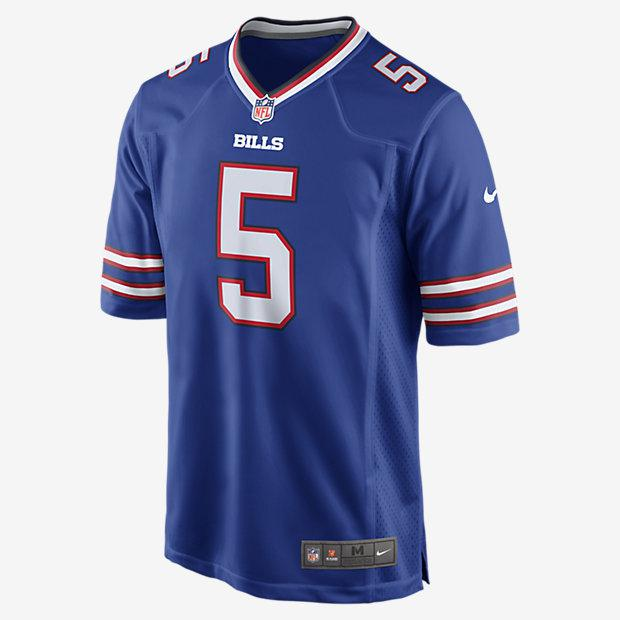teeshirt: (79, 12, 568, 620)
